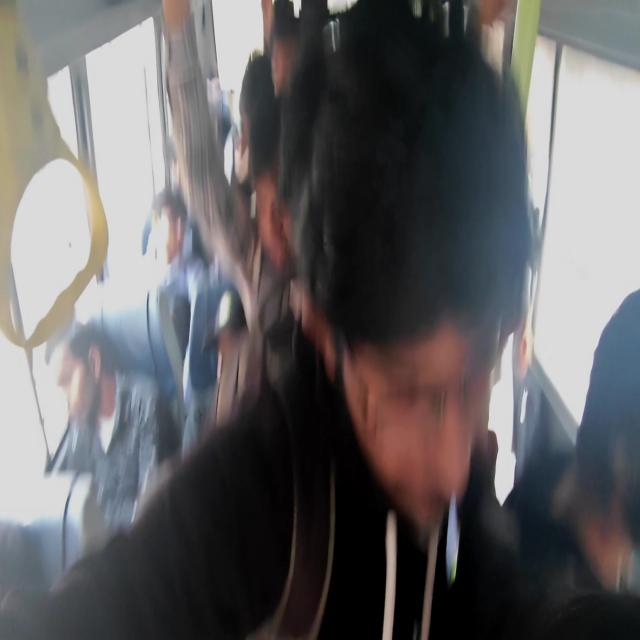person: (326, 73, 511, 525), (580, 336, 640, 640), (271, 24, 373, 152), (54, 344, 122, 450), (143, 205, 207, 304), (249, 161, 300, 269), (238, 61, 282, 174), (216, 304, 249, 391)
